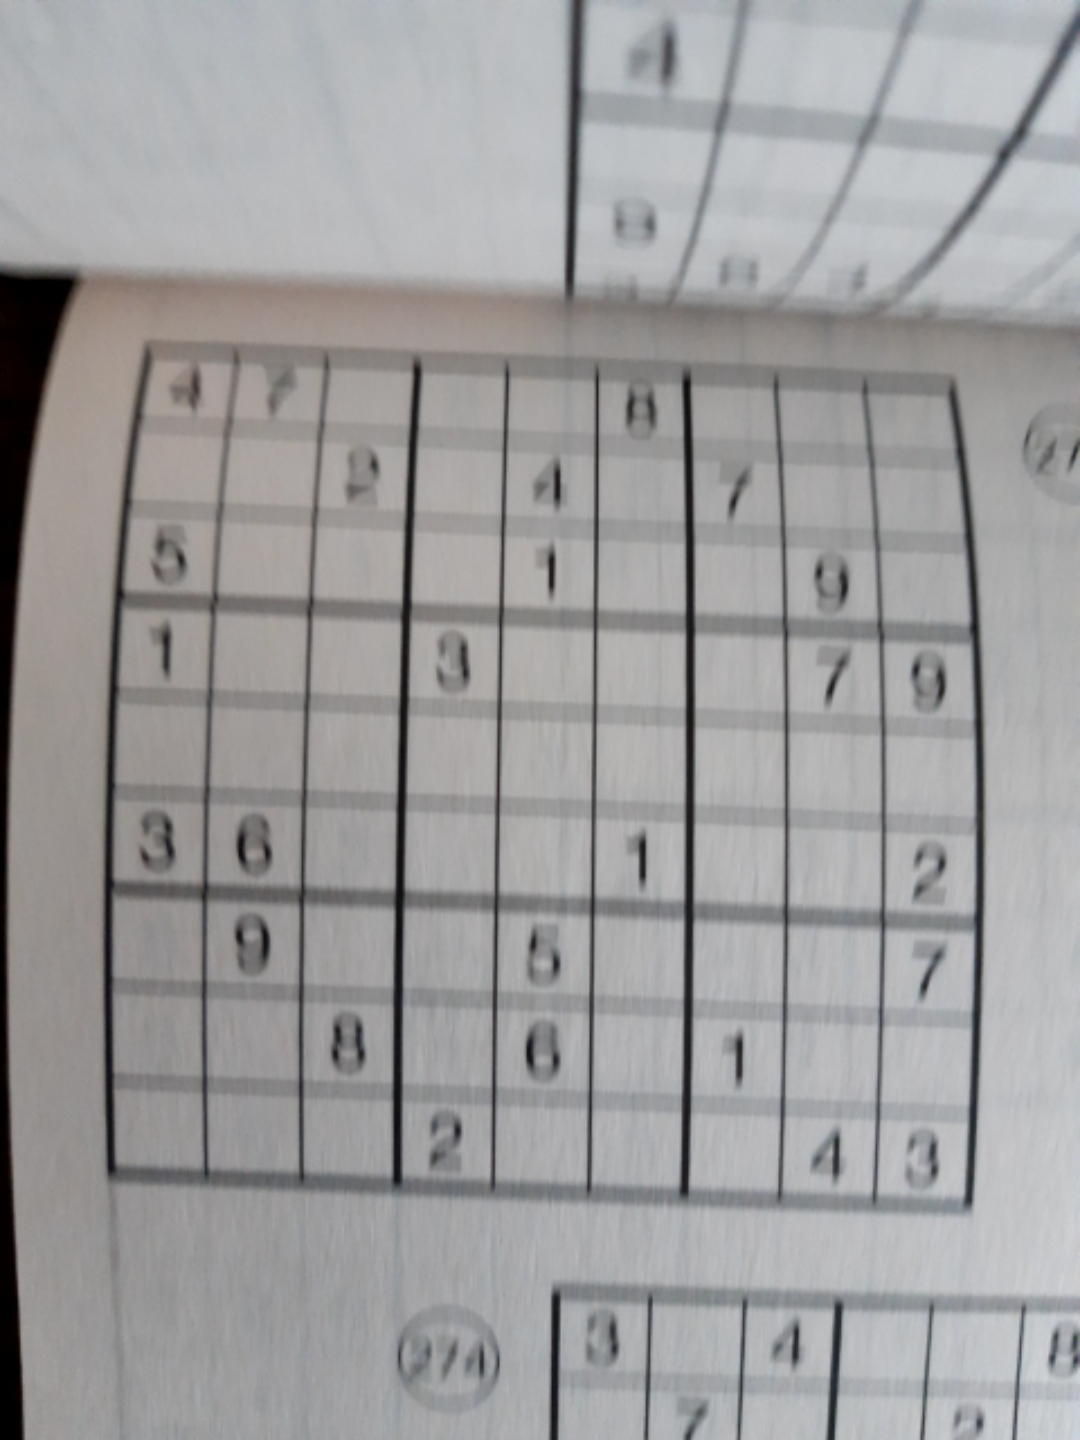sudoku: (101, 333, 987, 1215)
